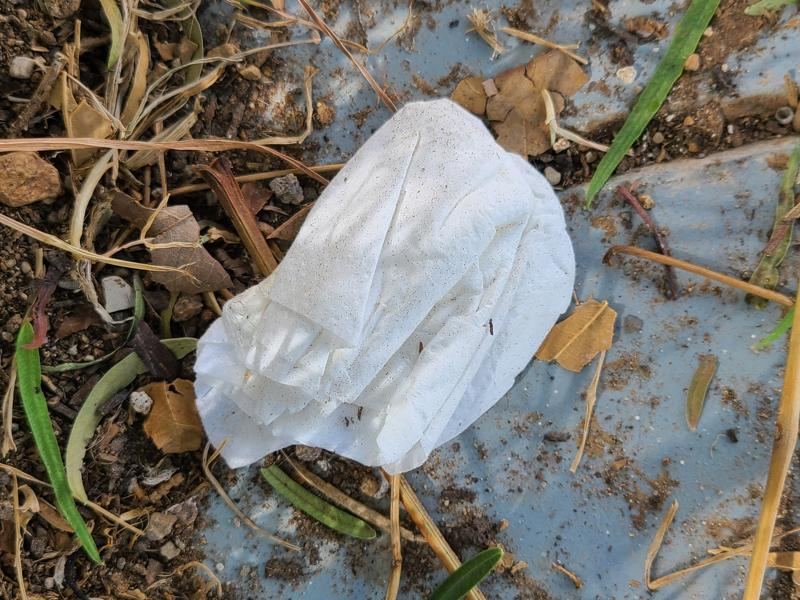papel: (193, 98, 578, 482)
